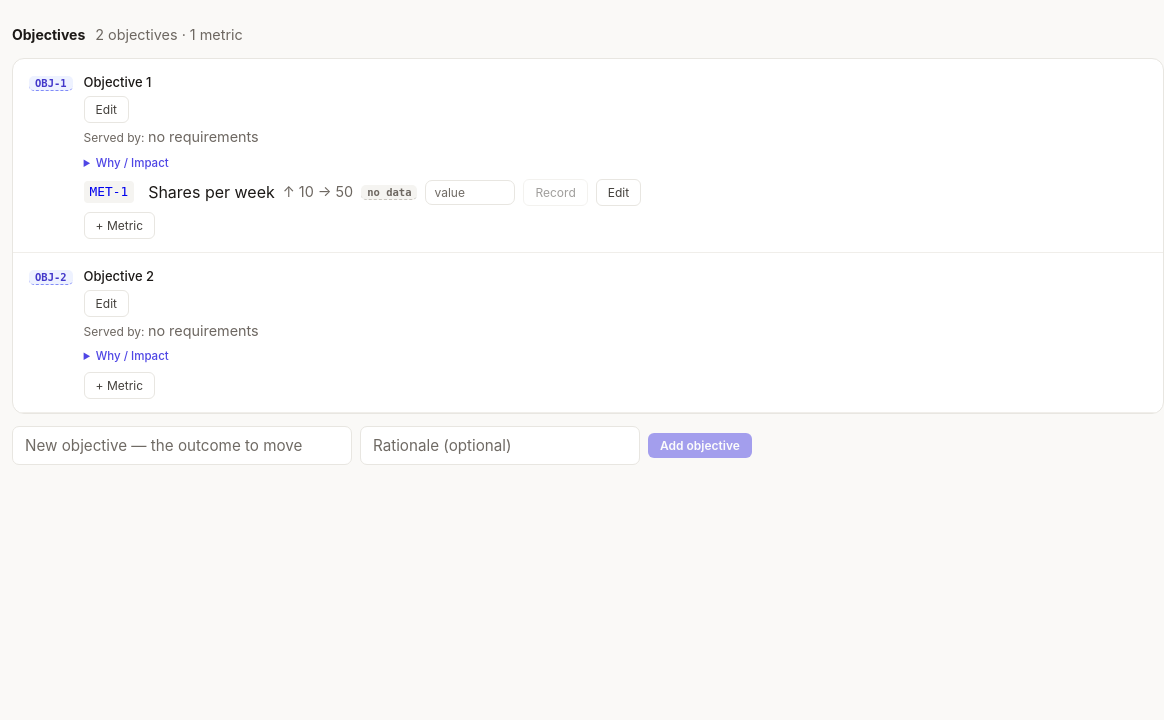
Test: ObjectivesSection metric edit form › refuses an invalid cadence before sending anything
Click the button with aria-label "Edit MET-1" at (618, 192), box [596, 179, 641, 206]
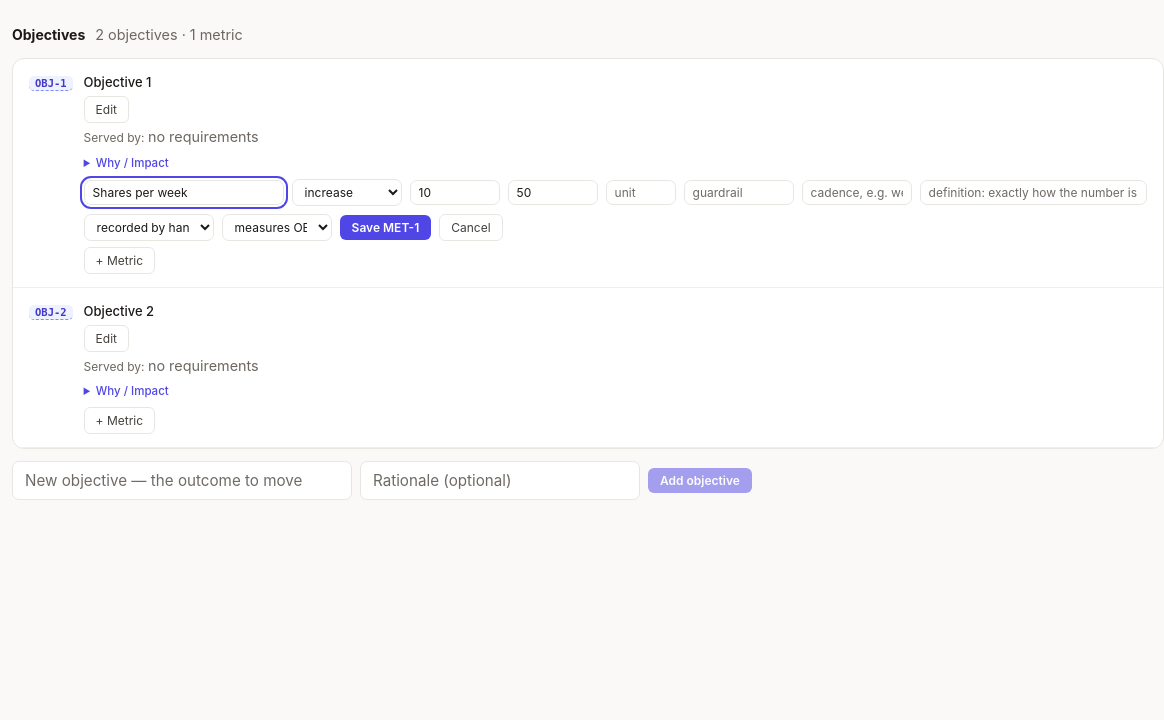
Type "fortnightly" into the field named "MET-1 cadence (blank for none)" at (857, 192), box [802, 180, 912, 205]
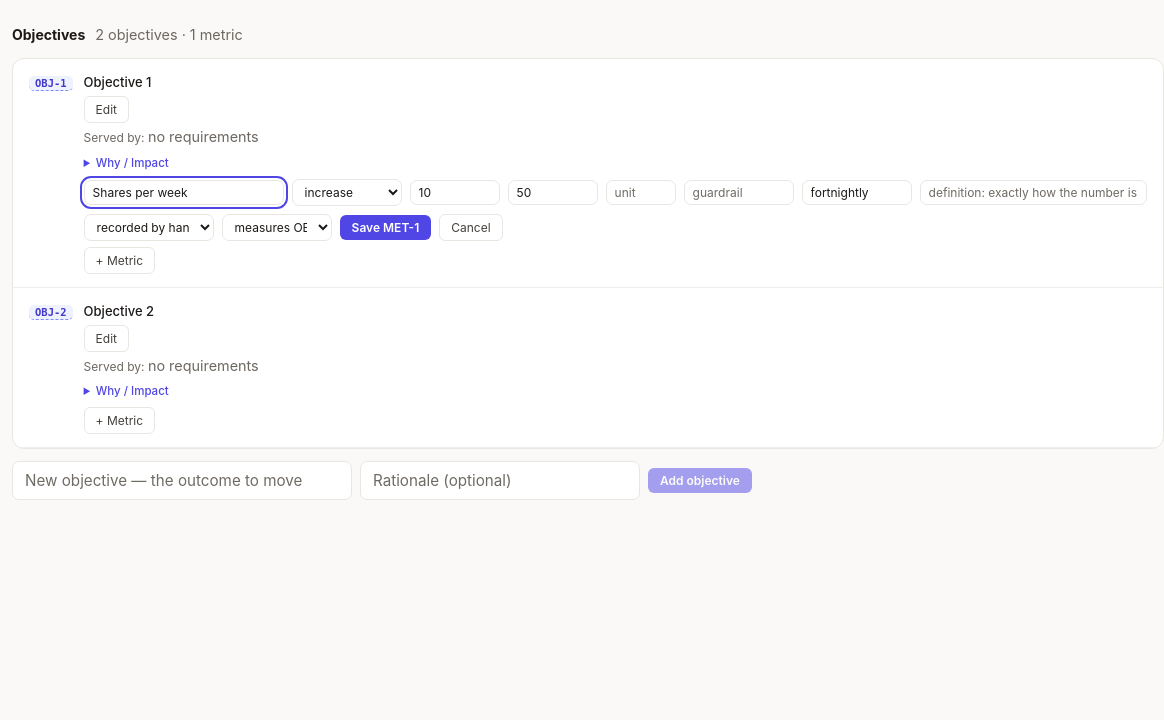
Click the button "Save MET-1" at (385, 227), box [340, 215, 431, 240]
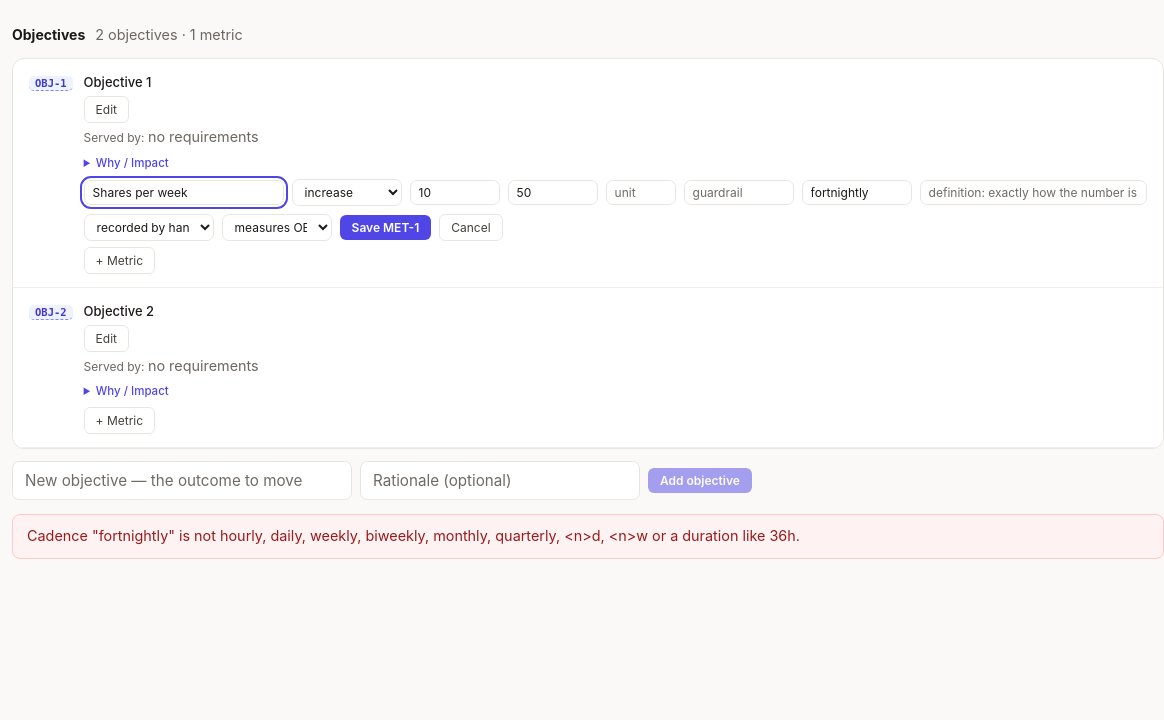
Expected: the text "Cadence \"fortnightly\" is not" is shown, [27, 527, 800, 544]
